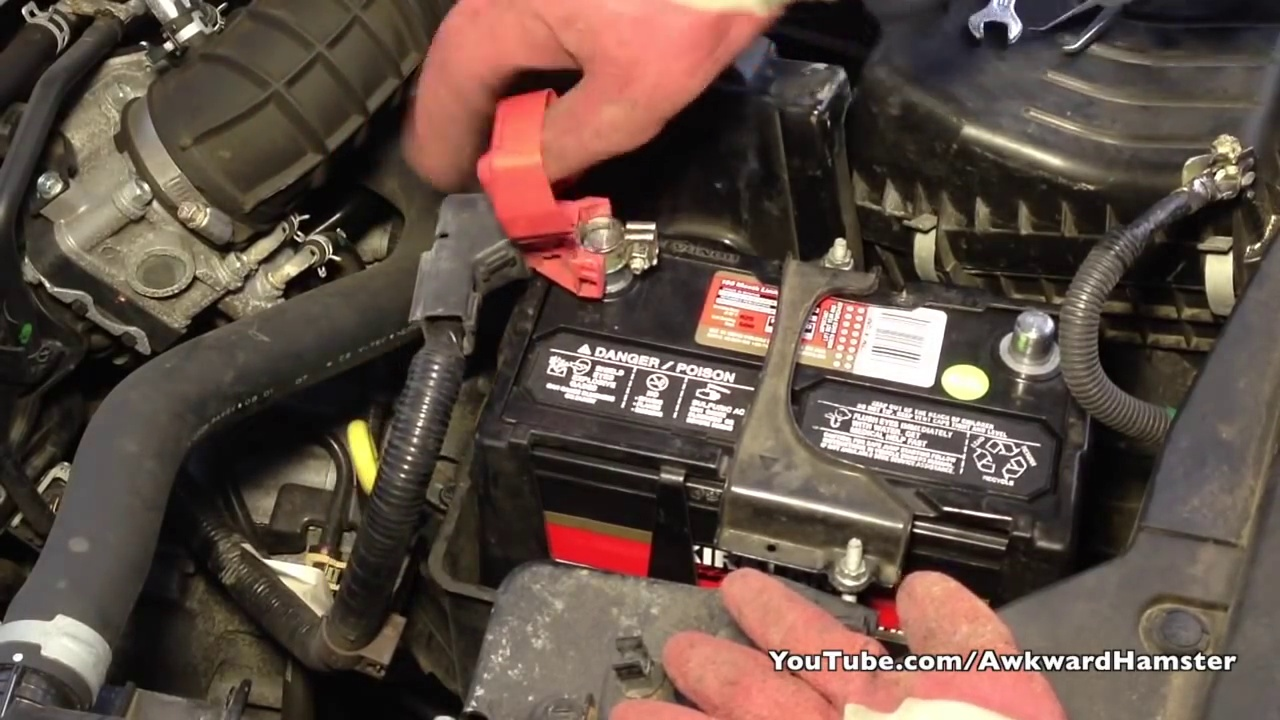battery: (484, 242, 1082, 545)
neg_disconnected: (965, 278, 1083, 390)
pos_connected: (424, 171, 706, 308)
pos_touched: (418, 48, 677, 290)
